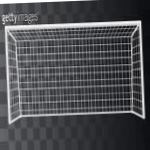goals: (3, 20, 146, 122)
